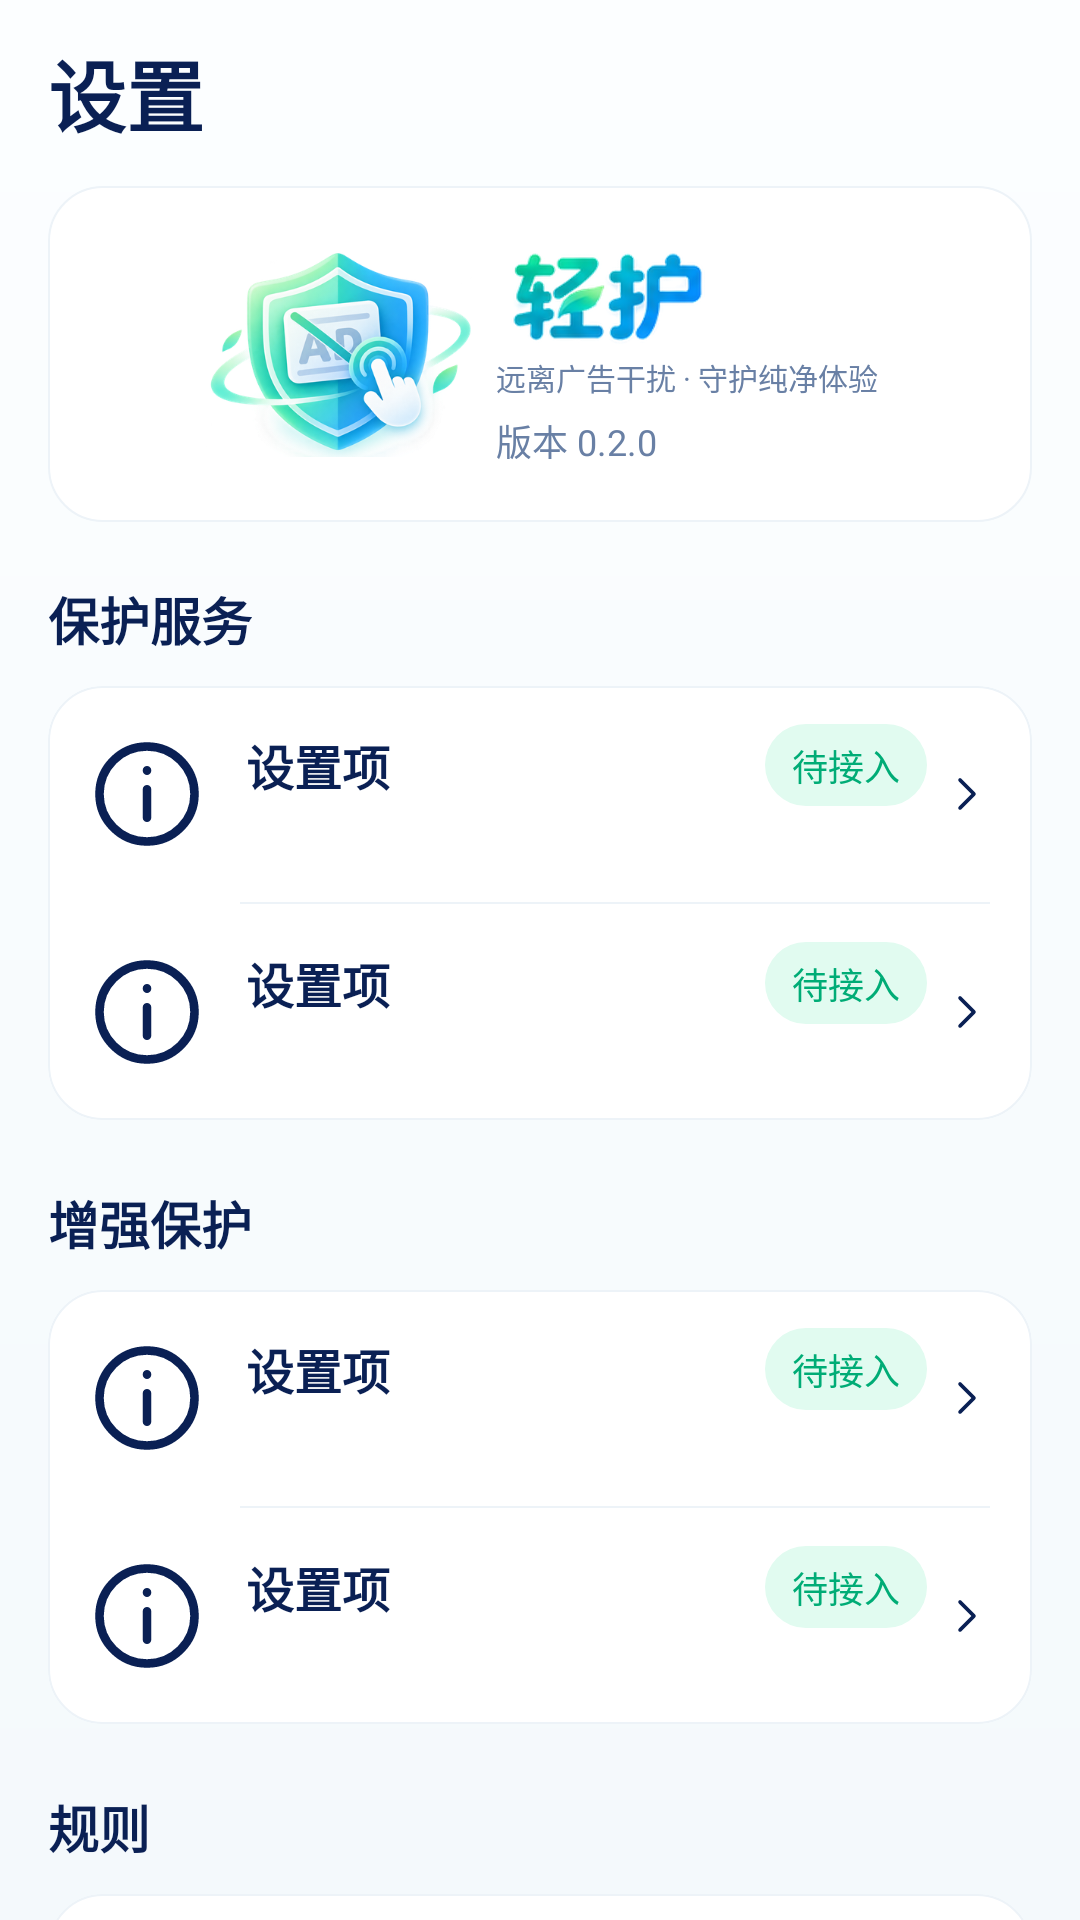

Named icons in this screenshot (1080w x 1920h) and their centers, [x,y]:
chevron: [967,794], [967,1012], [967,1398], [967,1616]
info: [147,794], [147,1012], [147,1398], [147,1616]
